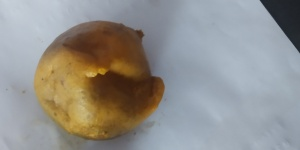BAD: (32, 20, 164, 140)
